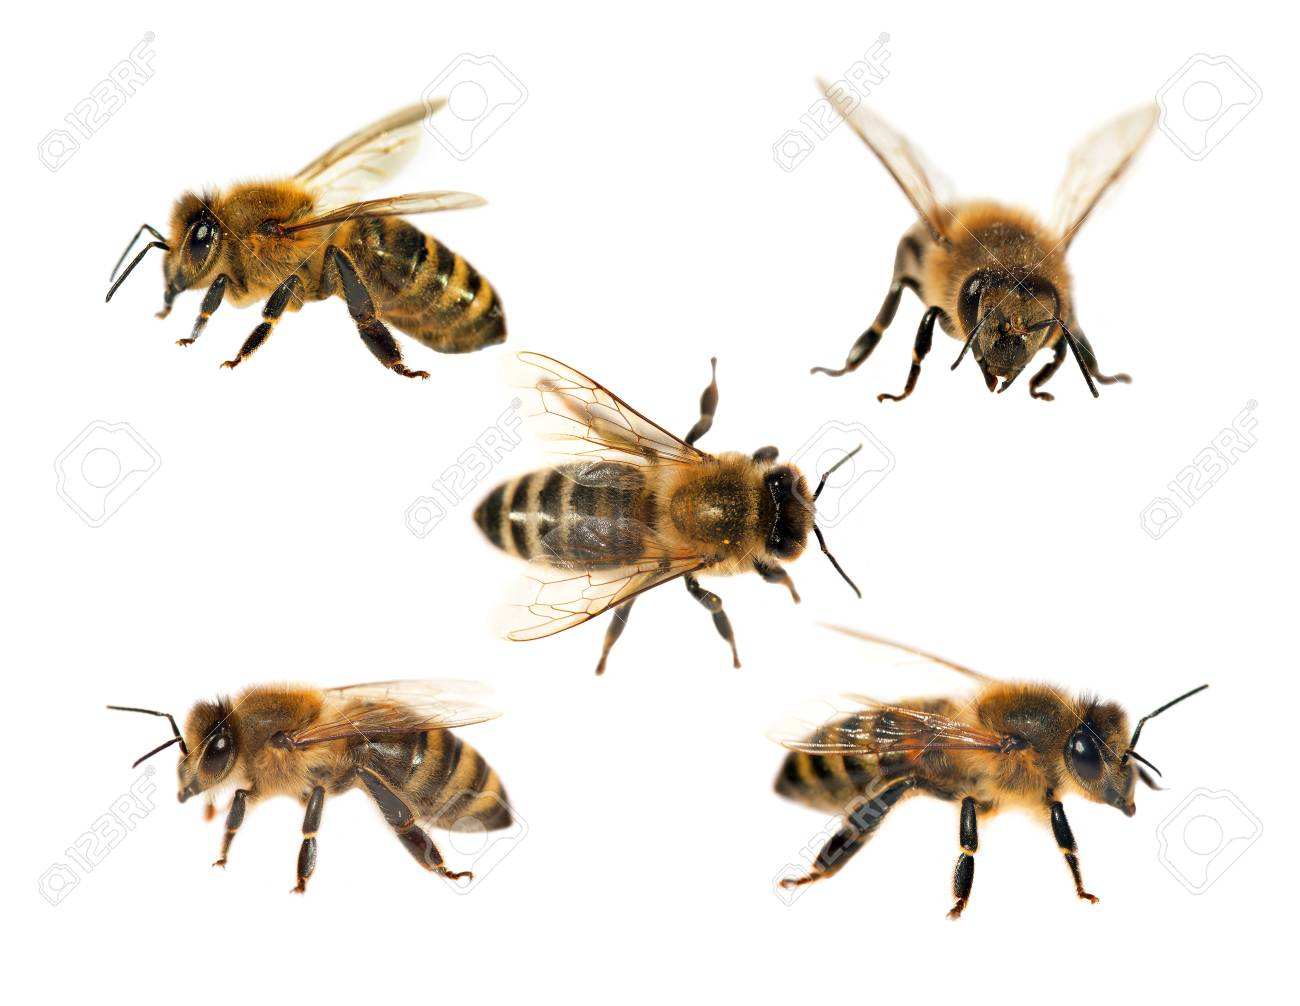bee: (700, 635, 1245, 918), (76, 84, 526, 390), (465, 358, 883, 682), (797, 45, 1156, 422), (69, 661, 580, 901)
